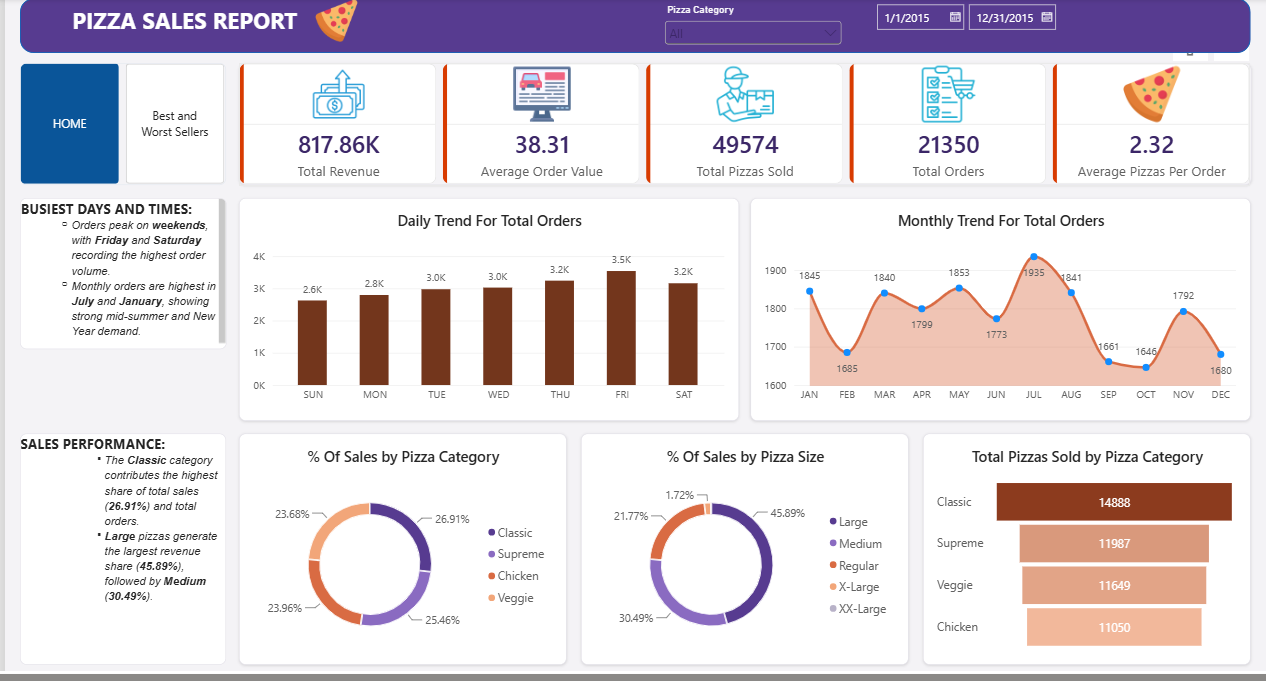

This screenshot's page, from the dashboard's own definition file:
{"tool":"powerbi","page":{"name":"HOME","canvas":[1920,1080],"ordinal":0},"visuals":[{"type":"cardVisual","fields":{"Data":["pizza_sales.Total Revenue","pizza_sales.Average Order Value","pizza_sales.Total Pizzas Sold","pizza_sales.Total Orders","pizza_sales.Average Pizzas Per Order"]},"box":[278,90,1205,145],"z":0},{"type":"shape","box":[18,12,1465,65],"z":1000},{"type":"textbox","box":[80,20,928.7,45.2],"z":2000},{"type":"image","box":[245.3,11.9,300,52.4],"z":3000},{"type":"slicer","fields":{"Values":["pizza_sales.pizza_category"]},"box":[780,17,220,55],"z":4000},{"type":"slicer","fields":{"Values":["pizza_sales.order_date"]},"box":[1030,15,320,60],"z":5000},{"type":"clusteredColumnChart","title":"Daily Trend For Total Orders","fields":{"Category":["pizza_sales.Order Day"],"Y":["pizza_sales.Total Orders"]},"box":[278,250,595,265],"z":6000},{"type":"areaChart","title":"Monthly Trend For Total Orders","fields":{"Category":["pizza_sales.Order Month"],"Y":["pizza_sales.Total Orders"]},"box":[888,250,595,265],"z":7000},{"type":"donutChart","title":"% Of Sales by Pizza Category","fields":{"Category":["pizza_sales.pizza_category"],"Y":["pizza_sales.Total Revenue"]},"box":[278,530,390,275],"z":8000},{"type":"funnel","title":"Total Pizzas Sold by Pizza Category","fields":{"Category":["pizza_sales.pizza_category"],"Y":["pizza_sales.Total Pizzas Sold"]},"box":[1093,530,390,275],"z":9000},{"type":"donutChart","title":"% Of Sales by Pizza Size","fields":{"Category":["pizza_sales.pizza_size"],"Y":["pizza_sales.Total Revenue"]},"box":[685,530,390,275],"z":10000},{"type":"textbox","box":[1493,87.5,427,150],"z":11000},{"type":"textbox","box":[18,250,246,180],"z":11001},{"type":"textbox","box":[18,530,245,275],"z":11002},{"type":"pageNavigator","box":[18,90,245,145],"z":11003}]}

Visuals, with their boxes on the page's 1920x1080 design canvas (x1, y1, x2, y2). These are canvas units, not pixel positions in the 1266x681 screenshot, which may show the page scaled, cropped or inside an application window:
cardVisual - pizza_sales.Total Revenue x pizza_sales.Average Order Value: bbox=(278, 90, 1483, 235)
shape: bbox=(18, 12, 1483, 77)
textbox: bbox=(80, 20, 1009, 65)
image: bbox=(245, 12, 545, 64)
slicer - pizza_sales.pizza_category: bbox=(780, 17, 1000, 72)
slicer - pizza_sales.order_date: bbox=(1030, 15, 1350, 75)
"Daily Trend For Total Orders" clusteredColumnChart: bbox=(278, 250, 873, 515)
"Monthly Trend For Total Orders" areaChart: bbox=(888, 250, 1483, 515)
"% Of Sales by Pizza Category" donutChart: bbox=(278, 530, 668, 805)
"Total Pizzas Sold by Pizza Category" funnel: bbox=(1093, 530, 1483, 805)
"% Of Sales by Pizza Size" donutChart: bbox=(685, 530, 1075, 805)
textbox: bbox=(1493, 88, 1920, 238)
textbox: bbox=(18, 250, 264, 430)
textbox: bbox=(18, 530, 263, 805)
pageNavigator: bbox=(18, 90, 263, 235)
